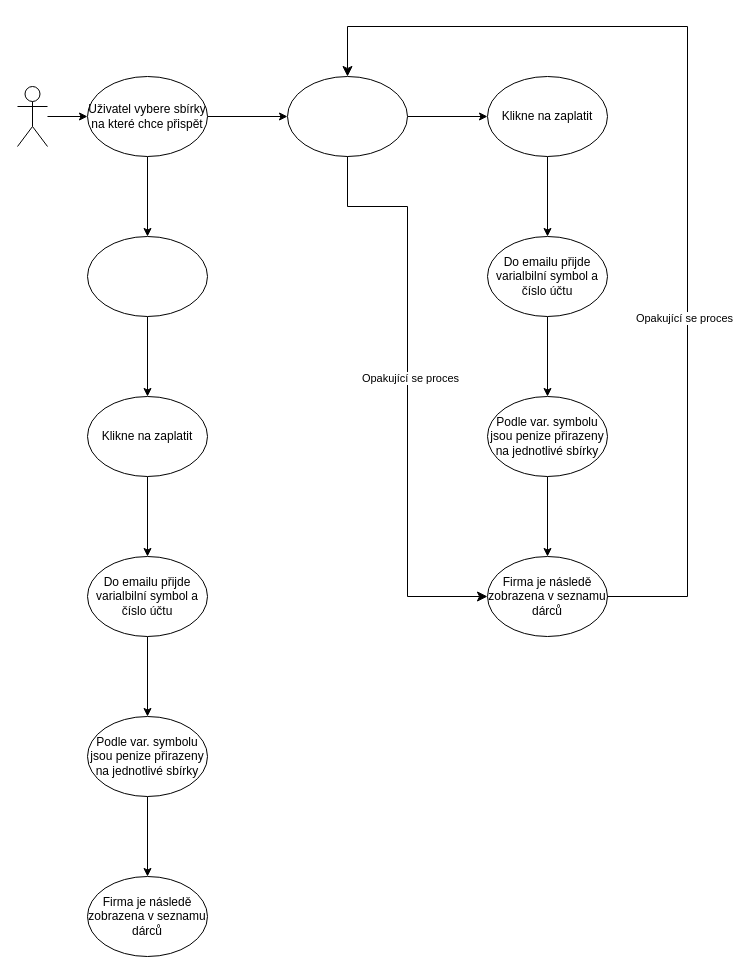
This 750x974 diagram has some shape labels left out. Each missing label, with the centre of its shape:
"Firma" belongs at point (32, 116).
"Vybere jednorázový příspěvek" belongs at point (147, 276).
"Vybere možnost měsíčního příspěvku" belongs at point (347, 116).
